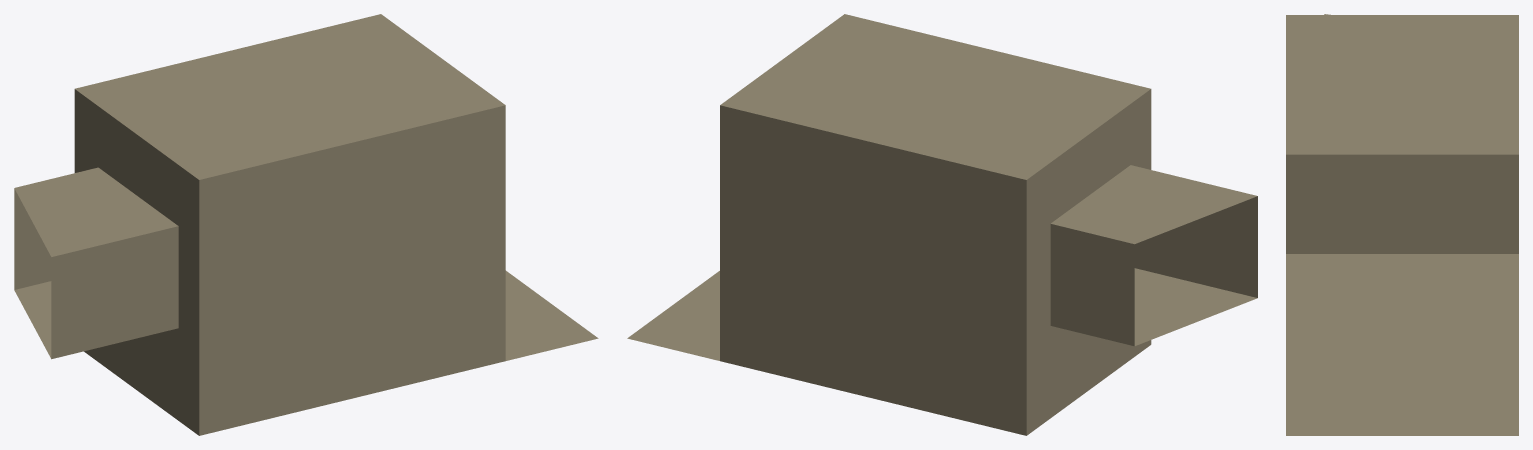
Rendered from Hab1.glb.
3 renders of one model, left to right at view 1: azimuth 30°, elevation 25°; view 2: azimuth 150°, elevation 25°; view 3: azimuth 270°, elevation 25°, orthographic. The views are drawn at different scales.
Visible parts, largest first — view 1: Hab2; view 2: Hab2; view 3: Hab2.
Boxes of the visible parts, x1,y1,x2,y2 form: Hab2: [14, 14, 598, 435]; Hab2: [627, 14, 1257, 435]; Hab2: [1286, 14, 1518, 435].
Size of the model in its own units: 4.88 by 2.26 by 2.
